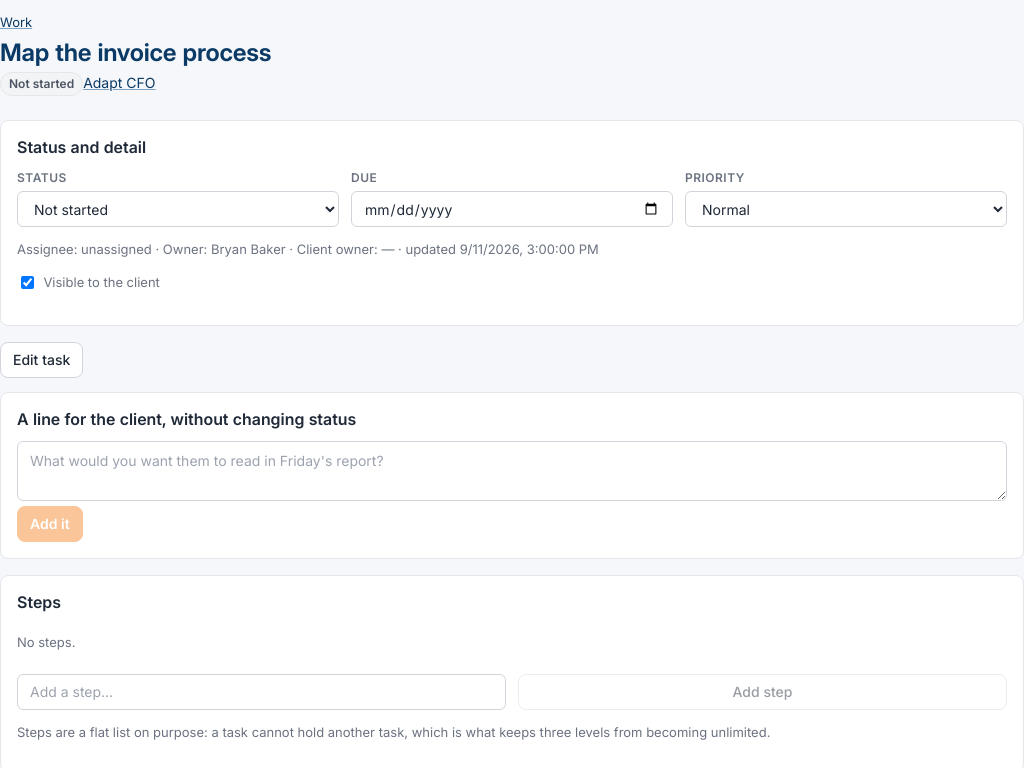
AC-3.3 — the client-facing line is prompted, not forced › asks for the line on a status change, and explains why
The width and height of the screenshot is (1024, 768).
Select "In progress" in the dropdown named "Status" at coordinates (178, 209), box top-left (17, 191), bottom-right (339, 227)
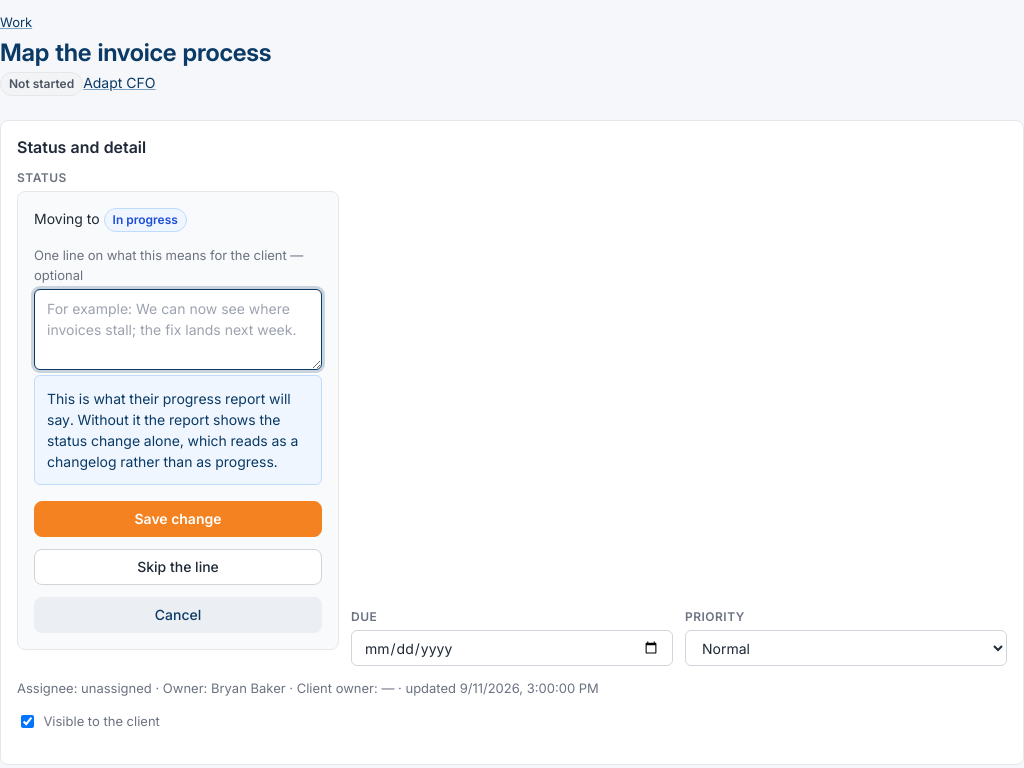
Check: the dialog "what this means for the client" shows "optional", box top-left (34, 247), bottom-right (303, 283)
Check: the dialog "what this means for the client" shows "reads as a changelog rather than as progress", box top-left (47, 390), bottom-right (298, 470)
